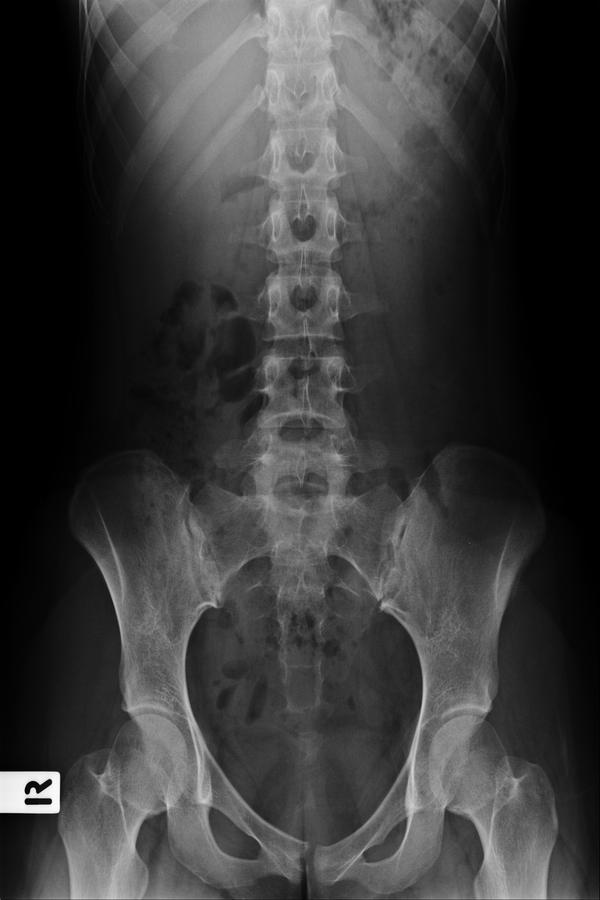not lumbar scoliosis: (261, 152, 353, 511)
